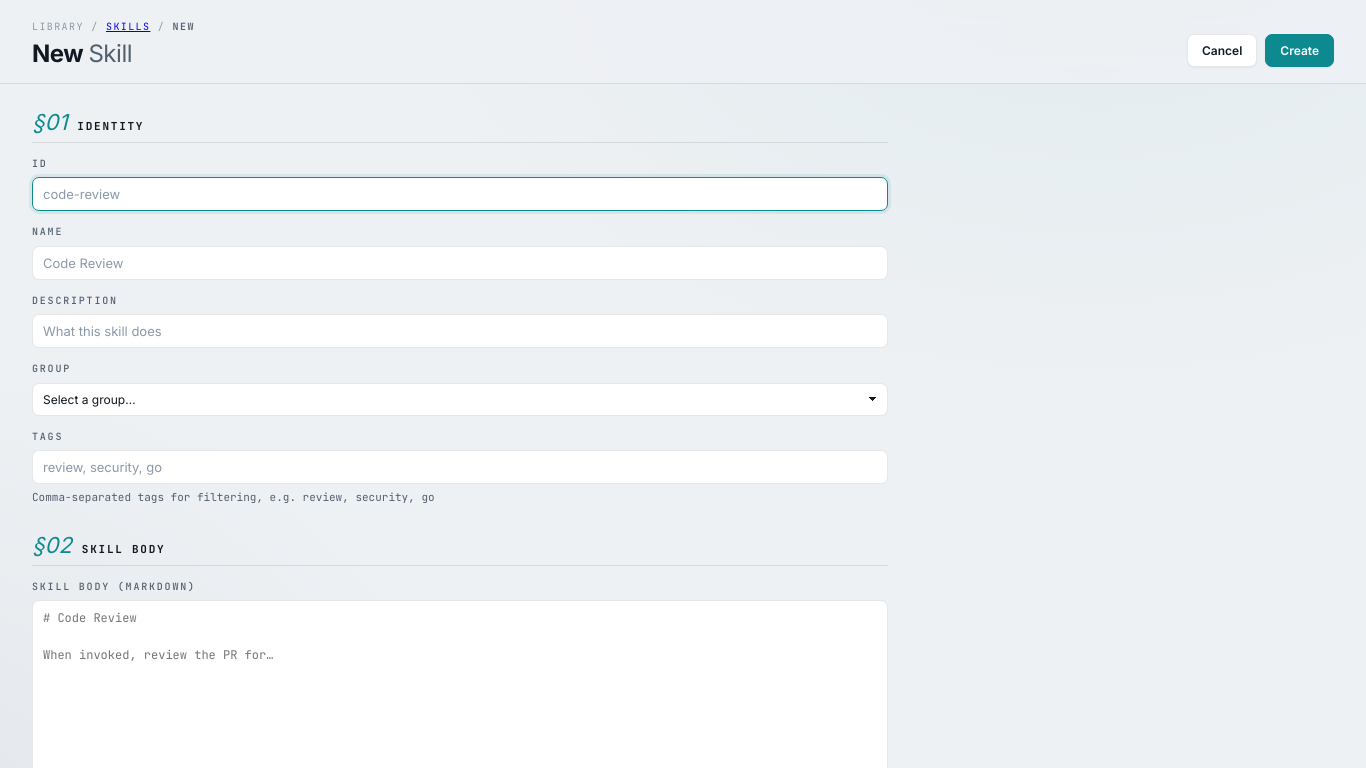
Test case: SkillForm › shows validation error for an invalid slug
Type "Bad Slug!" into the field labelled "ID" at {"x": 460, "y": 194}, box [32,177,888,211]
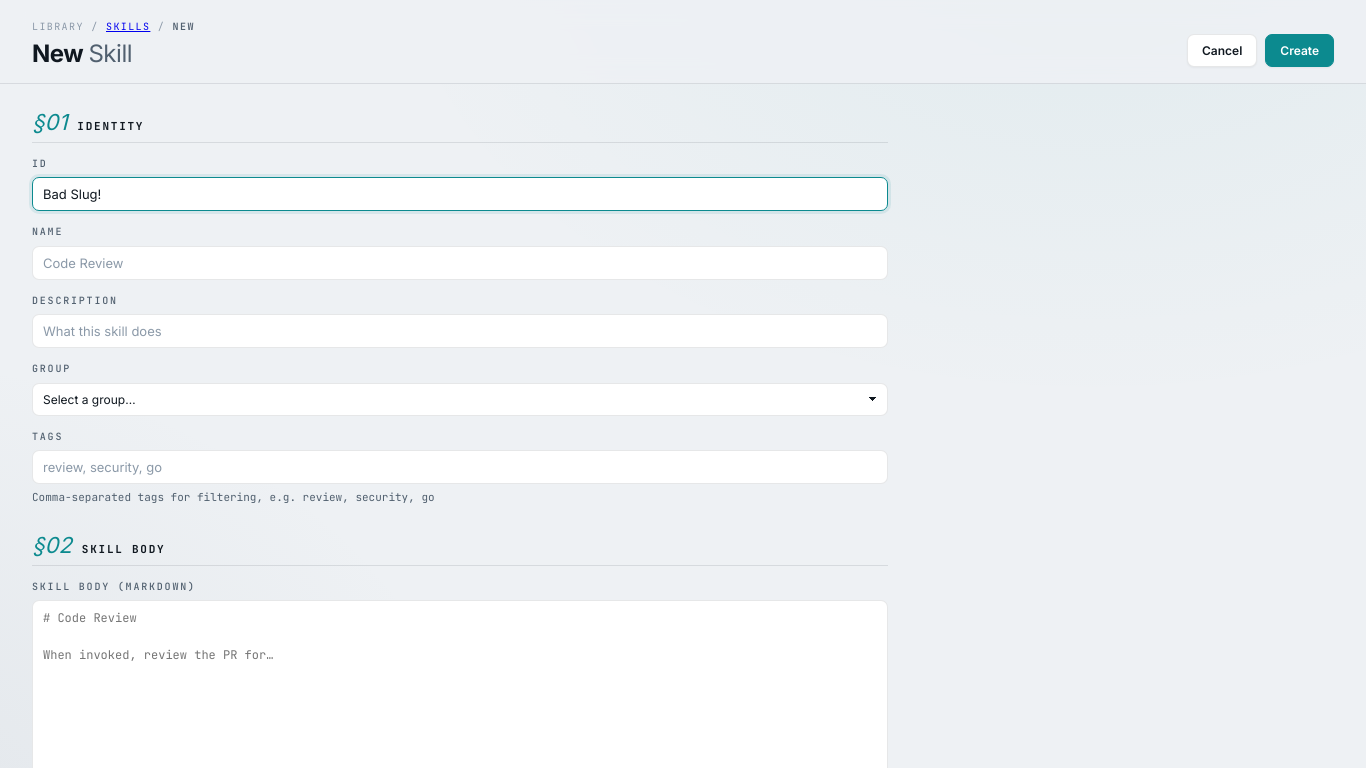
Type "Some Skill" into the field labelled "Name" at {"x": 460, "y": 263}, box [32,246,888,280]
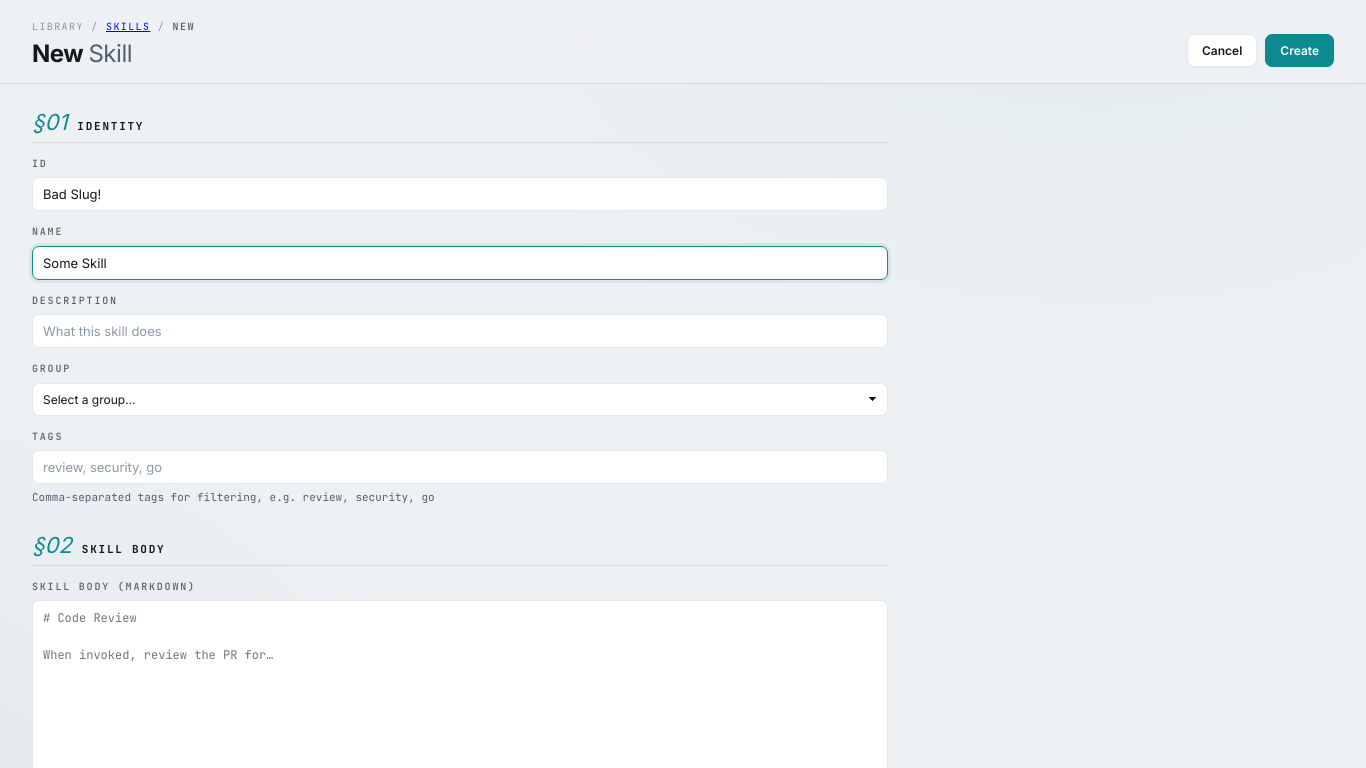
Click the button "Create" at {"x": 1300, "y": 50}, box [1265,34,1334,67]
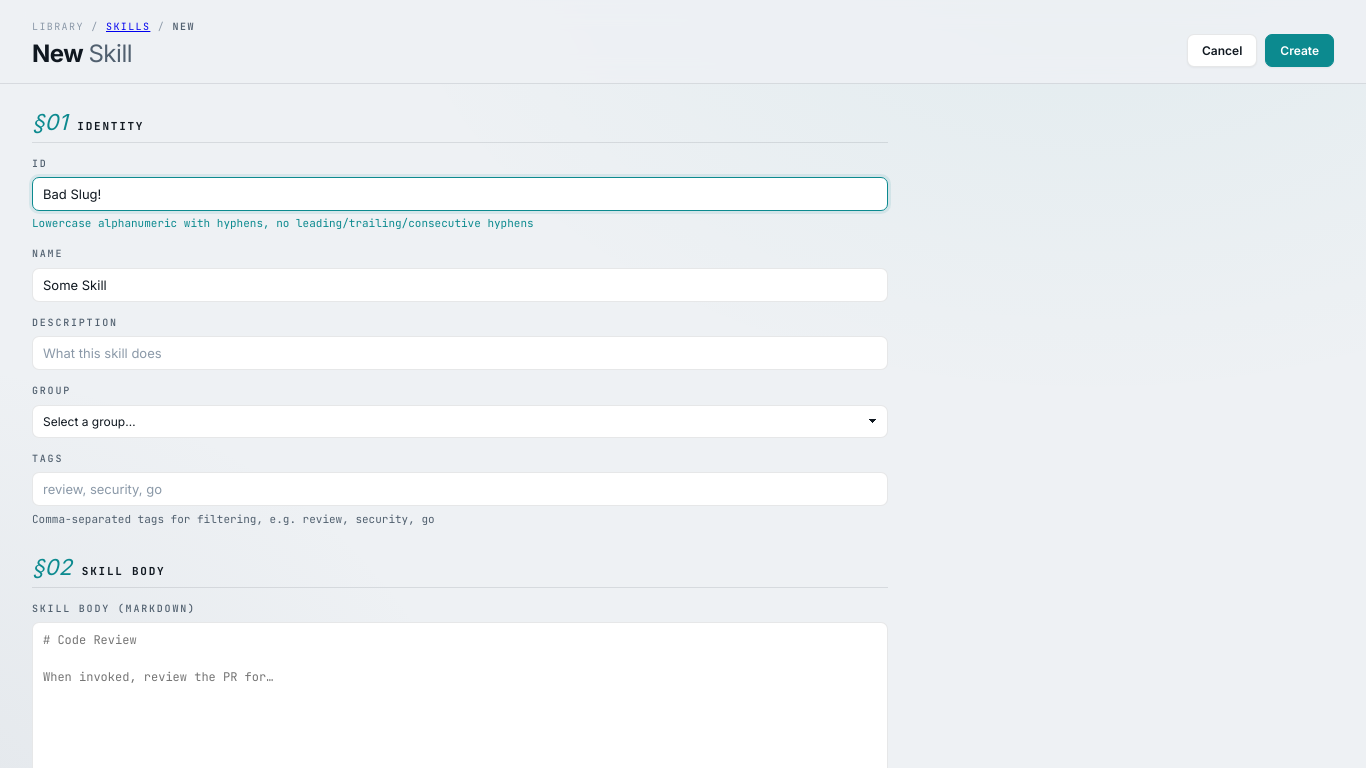
Result: the text "Lowercase alphanumeric with hyphens" is shown at [32,217,534,231]
